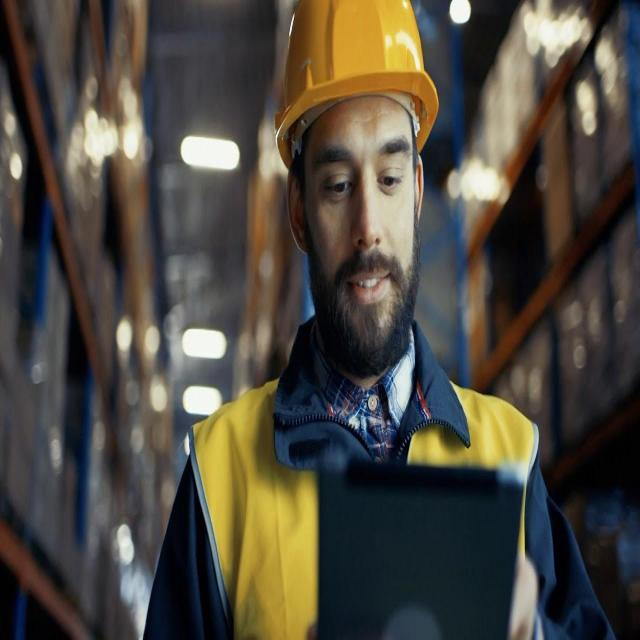Reflective-Jacket: (186, 359, 542, 640)
Safety-Helmet: (272, 2, 440, 154)
